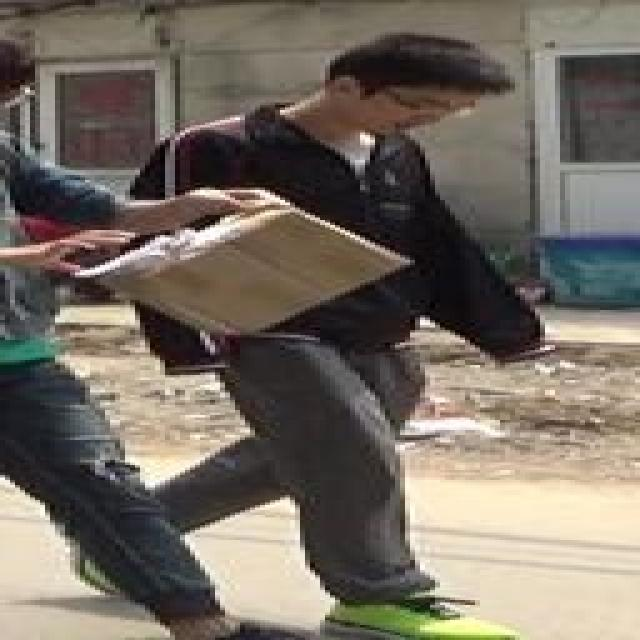adult: (125, 43, 518, 640)
